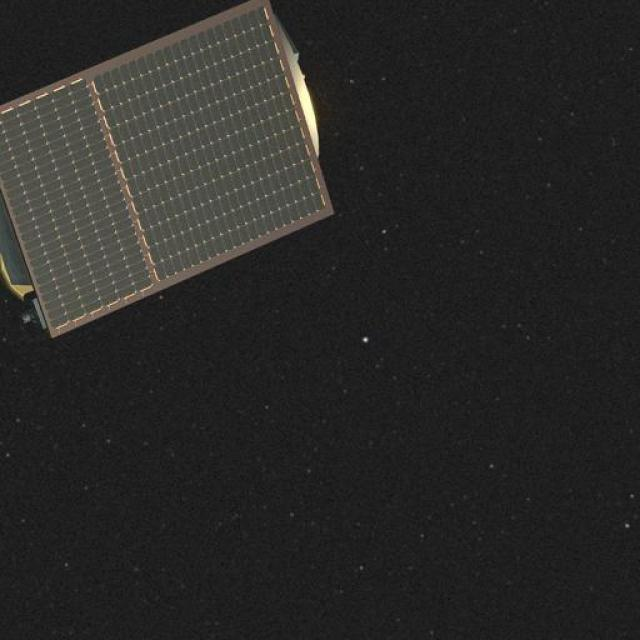cheops: (6, 4, 343, 335)
